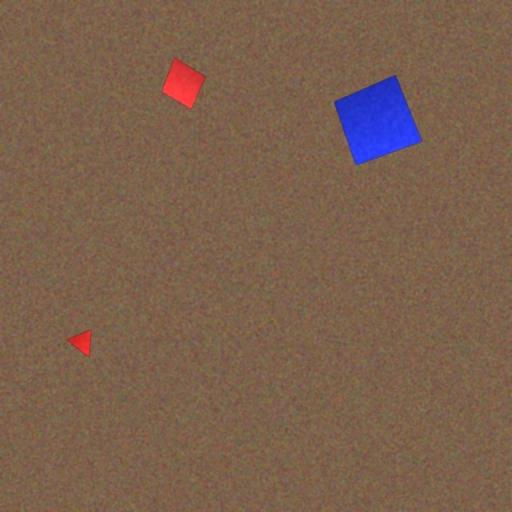BLUE_SQUARE: (334, 74, 422, 166)
RED_SQUARE: (161, 57, 206, 110)
